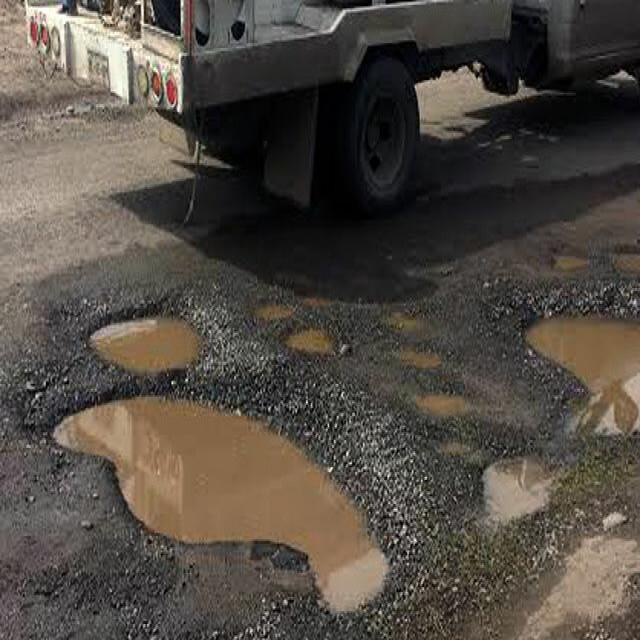Pothole: (21, 269, 640, 635)
